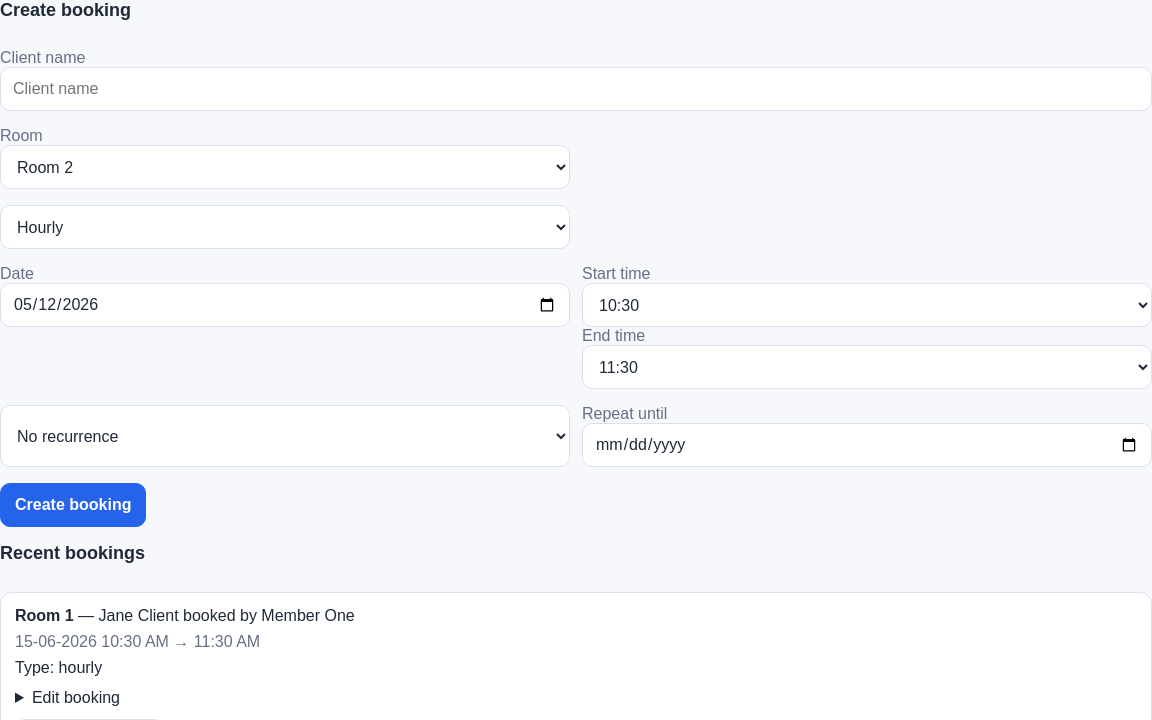
BookingForms › renders booking details and timezone-aware edit defaults
Expected: the text "15-06-2026 10:30 AM → 11:30 AM" is shown, [15,633,260,650]
Expected: the text "Type: hourly" is shown, [15,659,102,676]
Click the heading "Edit booking": (76, 698) [32,689,120,706]
(page scrolled)
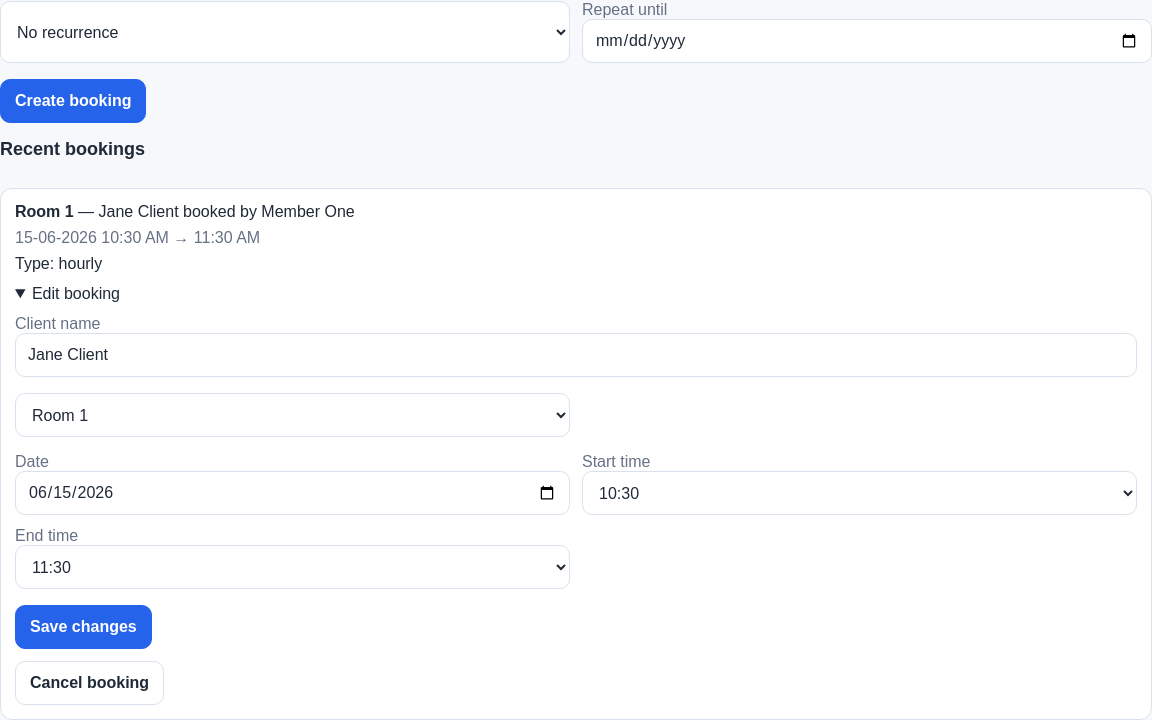
Expected: the field labelled "Client name" holds "Jane Client", [15,333,1137,377]
Expected: the 2nd dropdown named "roomId" shows "Room 1", [15,393,570,437]
Expected: the date field named "date" below "Edit booking" holds "2026-06-15", [15,471,570,515]
